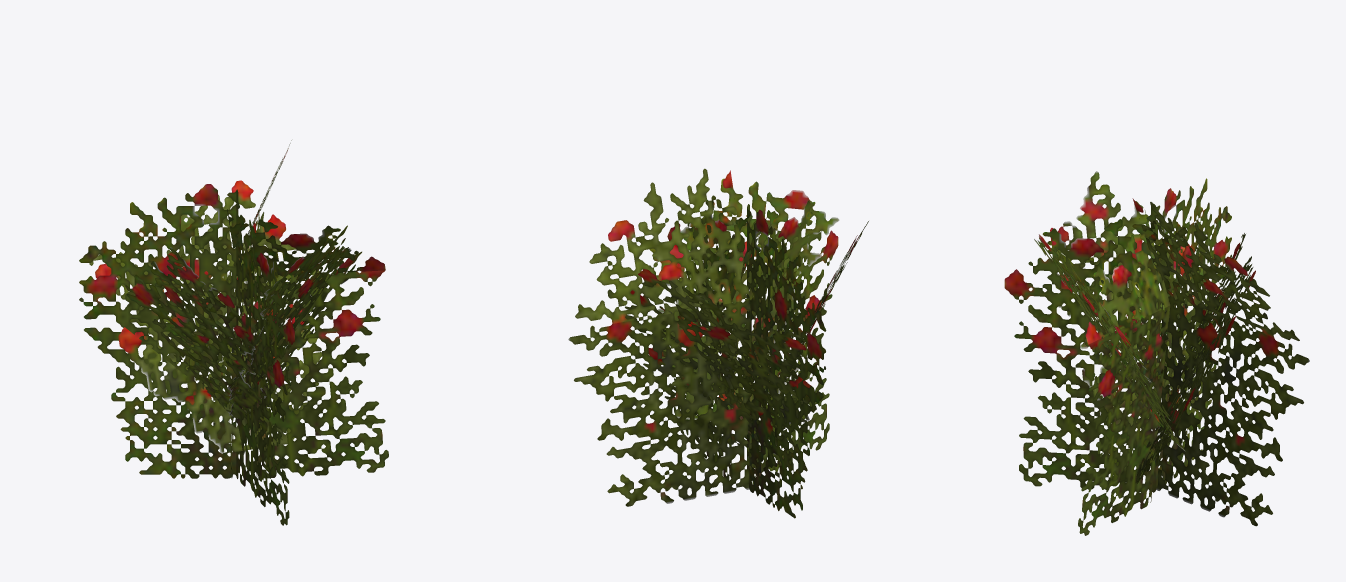
The model's file is rose_bush_bottom_2.obj.
The picture shows the model from 3 angles, left to right: view 1: azimuth 30°, elevation 25°; view 2: azimuth 150°, elevation 25°; view 3: azimuth 270°, elevation 25°; orthographic projection. The views are drawn at different scales.
Parts seen in each view (by area): view 1: plane; view 2: plane; view 3: plane.
Boxes of the visible parts, x1,y1,x2,y2 form: plane: [79, 140, 388, 525]; plane: [568, 168, 868, 518]; plane: [1004, 171, 1309, 535].
Size of the model in its own units: 2.62 by 3.04 by 2.64.
